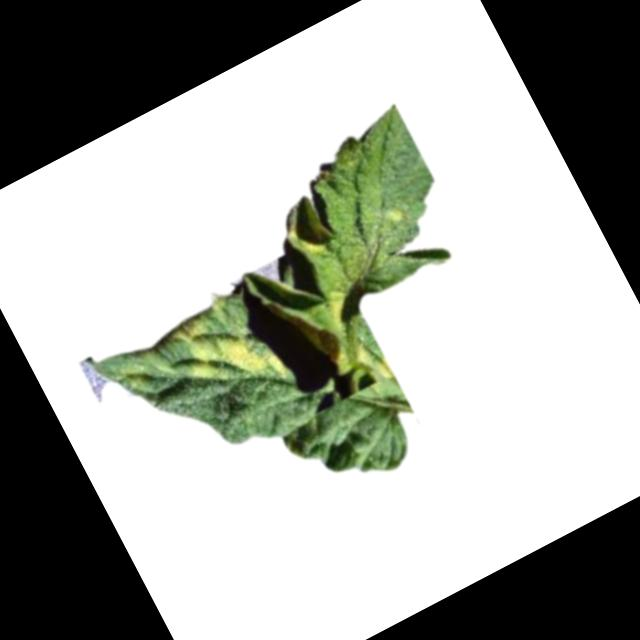Leaf_Mold: (164, 285, 294, 423), (280, 284, 394, 412), (293, 228, 331, 266)
